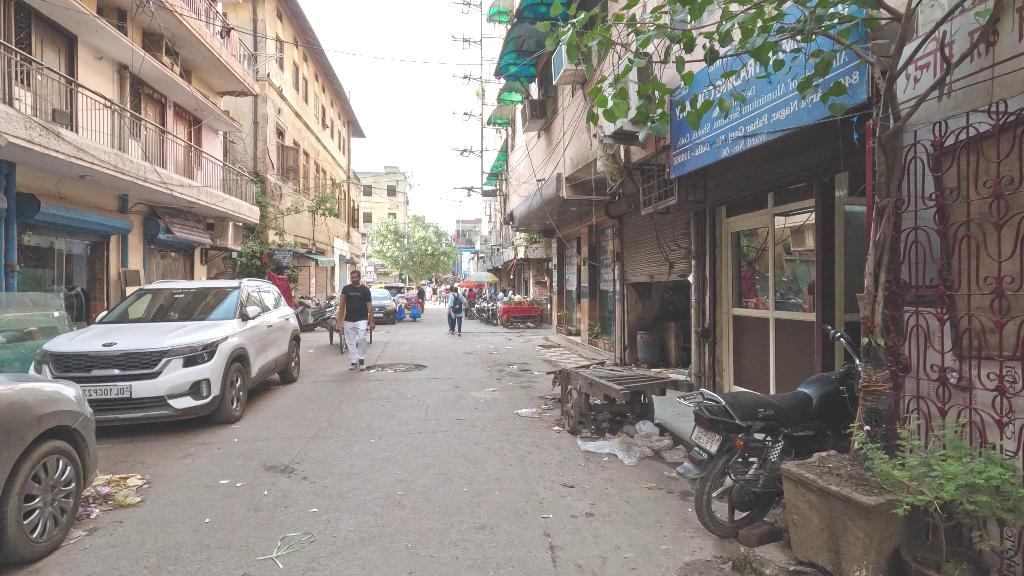garbage: (76, 469, 145, 517), (513, 404, 537, 422)
